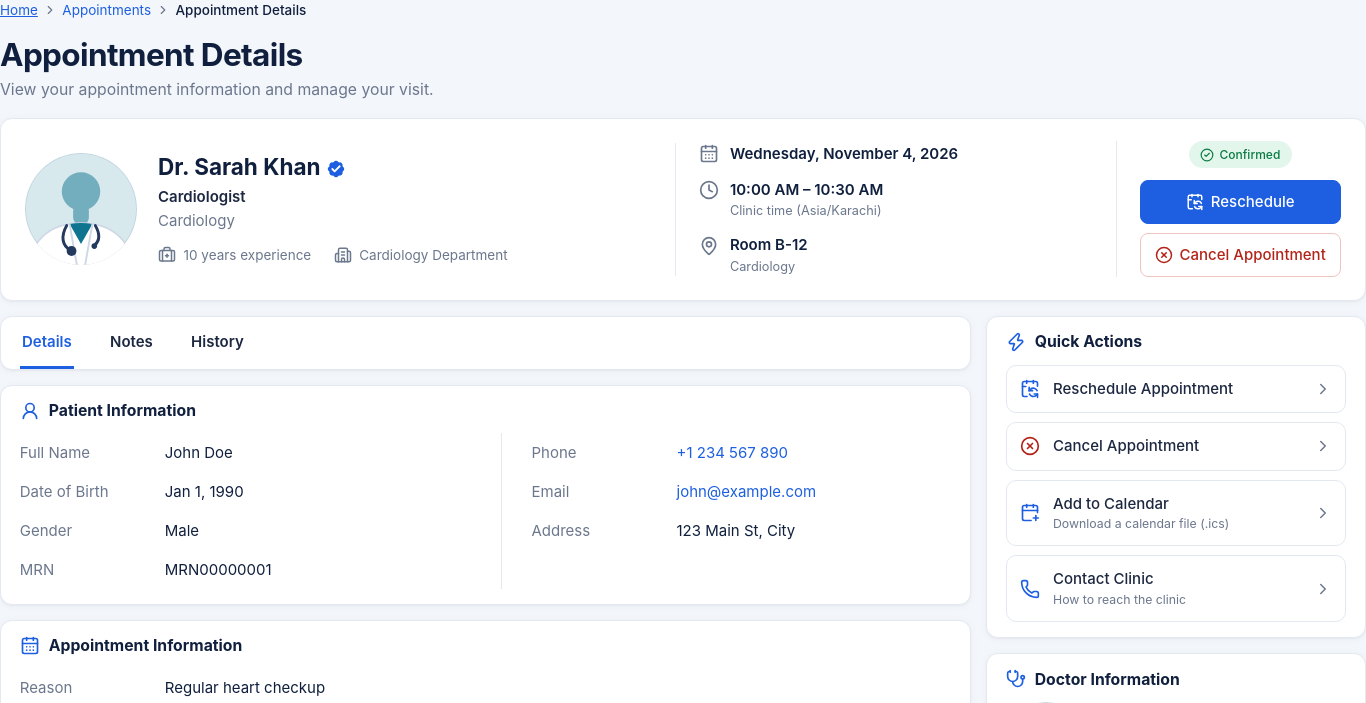
Scenario: tabs › Notes shows the patient's own words and no staff notes
This screenshot has width=1366, height=703.
Click the tab "Notes".
click(131, 343)  # box [108, 317, 155, 369]
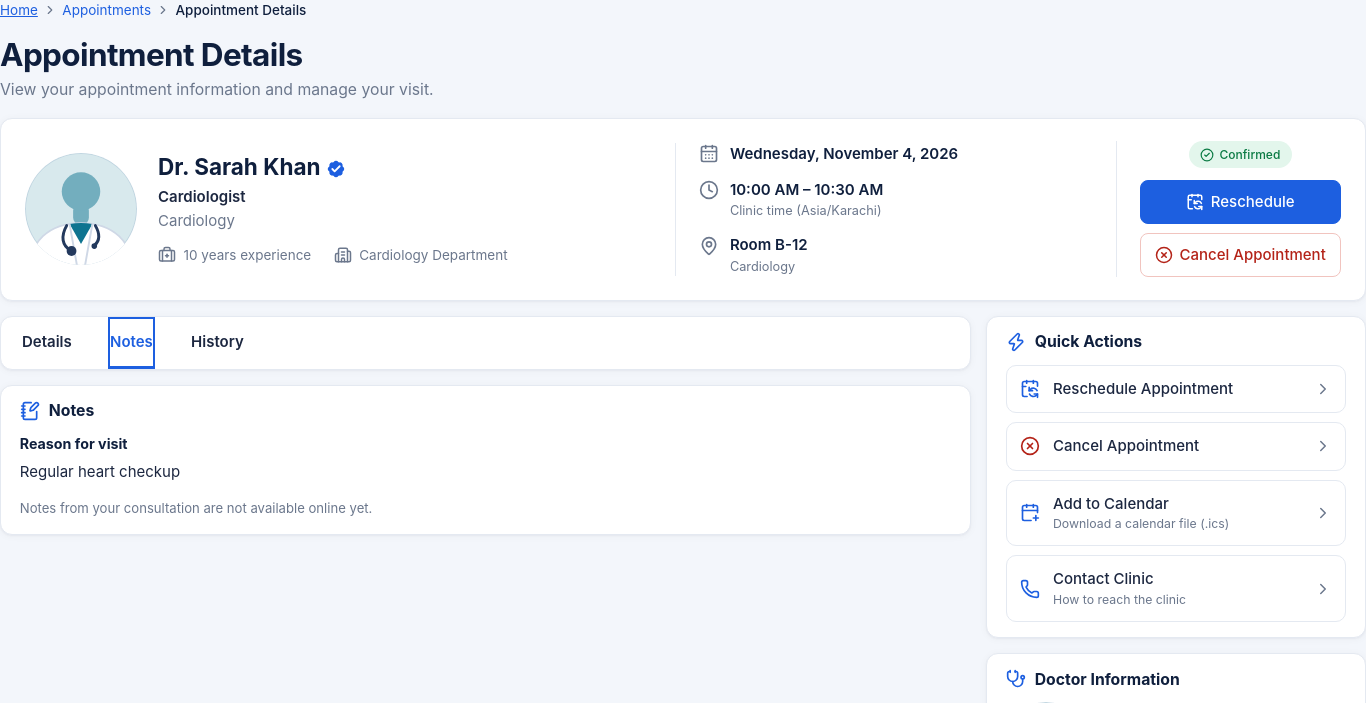
Expected: the panel shows "Regular heart checkup", [20, 462, 180, 481]
Result: the panel shows "Notes from your consultation are not available online yet." at [20, 500, 372, 516]
